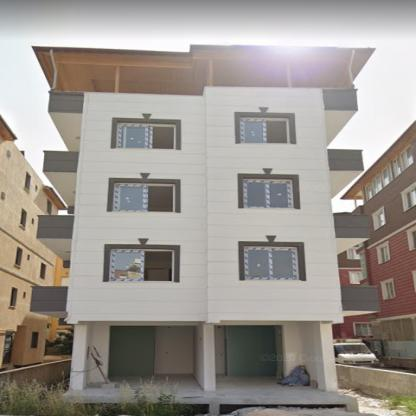door: (4, 333, 12, 363)
window: (364, 145, 412, 201), (111, 250, 172, 282), (113, 183, 174, 212), (245, 247, 298, 279), (115, 123, 176, 149), (244, 178, 292, 208), (381, 318, 415, 357), (240, 118, 289, 142), (355, 323, 372, 336), (384, 281, 395, 298), (360, 253, 367, 279), (406, 189, 415, 208), (379, 245, 388, 262), (377, 213, 384, 228), (16, 249, 22, 266), (11, 288, 16, 306), (351, 272, 359, 283), (21, 211, 26, 226), (32, 333, 37, 347), (42, 264, 46, 278), (26, 174, 29, 189), (48, 200, 51, 214)
